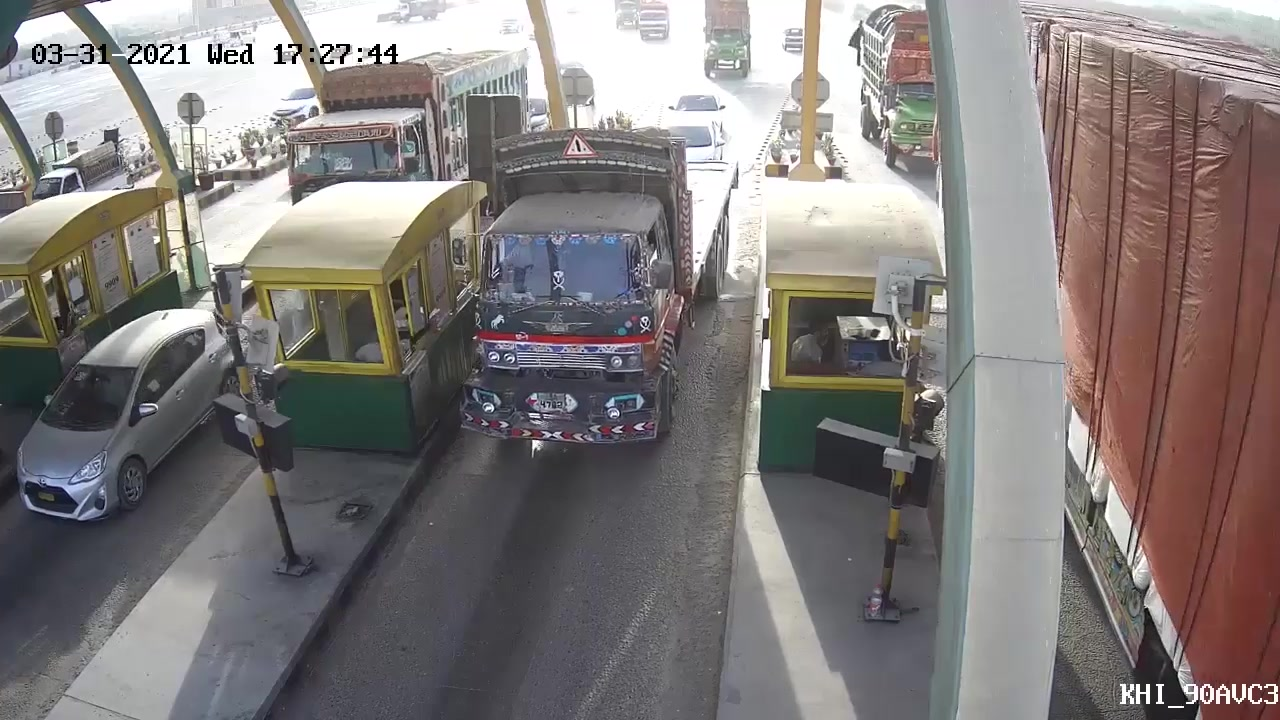F5: (456, 130, 742, 451)
